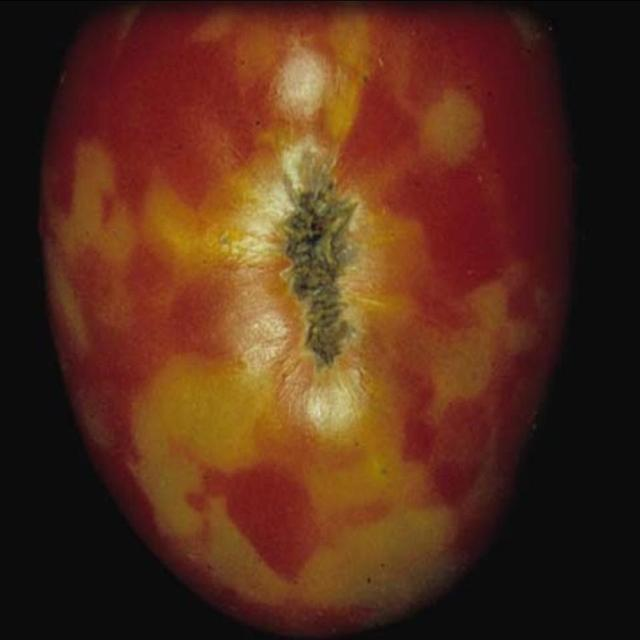Spotted wilt Virus Fruit: (23, 0, 375, 423)
